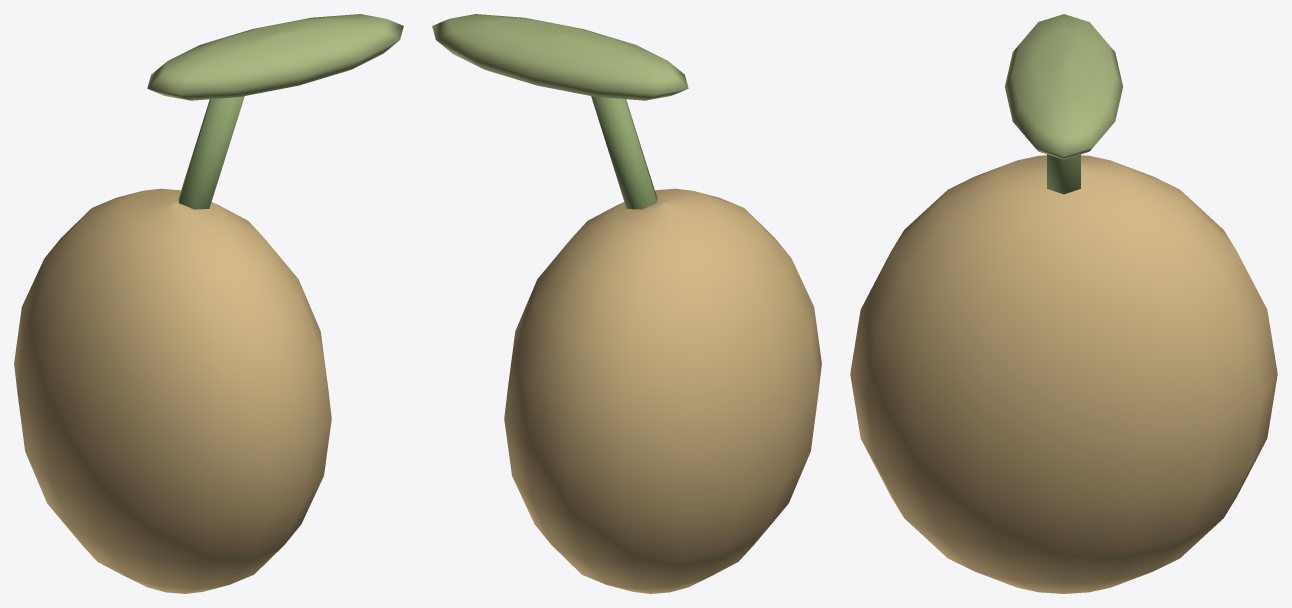
Rendered from food.glb.
3 renders of one model, left to right at view 1: azimuth 30°, elevation 25°; view 2: azimuth 150°, elevation 25°; view 3: azimuth 270°, elevation 25°, orthographic. The views are drawn at different scales.
Visible parts, largest first — view 1: food_fixed_Woven canvas, food_fixed_Garden foliage; view 2: food_fixed_Woven canvas, food_fixed_Garden foliage; view 3: food_fixed_Woven canvas, food_fixed_Garden foliage.
Part boxes in pixels (x1,y1,x2,y2): food_fixed_Woven canvas: (14,188,331,593); food_fixed_Garden foliage: (147,14,403,209); food_fixed_Woven canvas: (504,188,821,593); food_fixed_Garden foliage: (432,14,688,209); food_fixed_Woven canvas: (850,155,1277,593); food_fixed_Garden foliage: (1005,14,1122,194).
Bounding box in the file's own units: 0.28 × 0.387 × 0.26.
